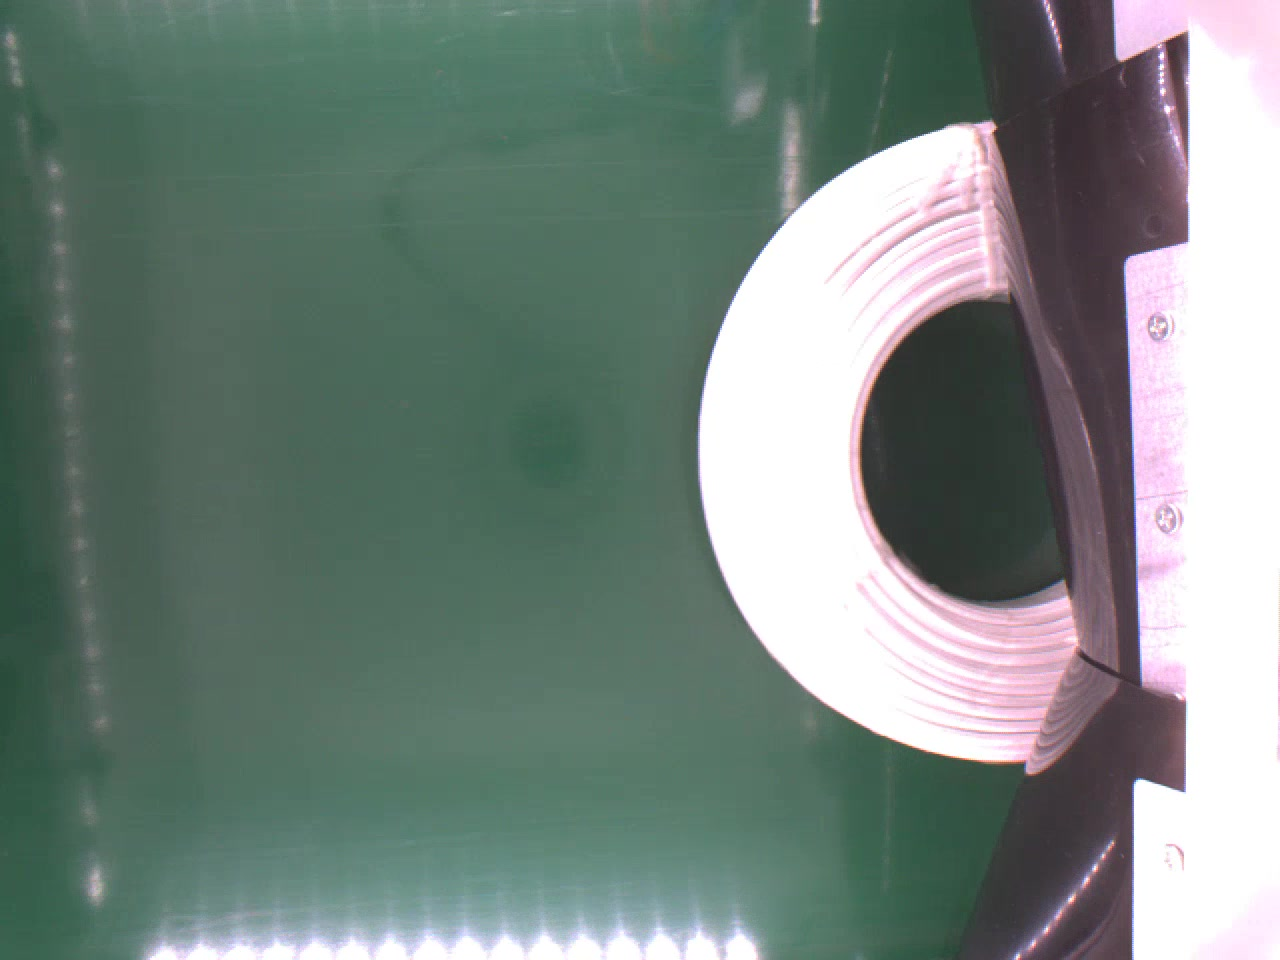white: (694, 120, 1077, 768)
